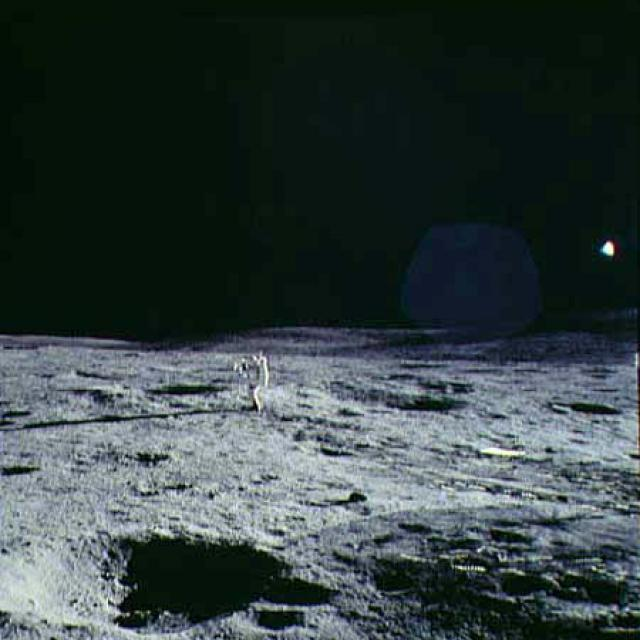crater: (0, 515, 307, 638), (309, 378, 472, 418), (144, 366, 235, 411), (541, 389, 626, 430), (81, 437, 180, 472), (246, 600, 317, 636), (0, 451, 51, 496)
